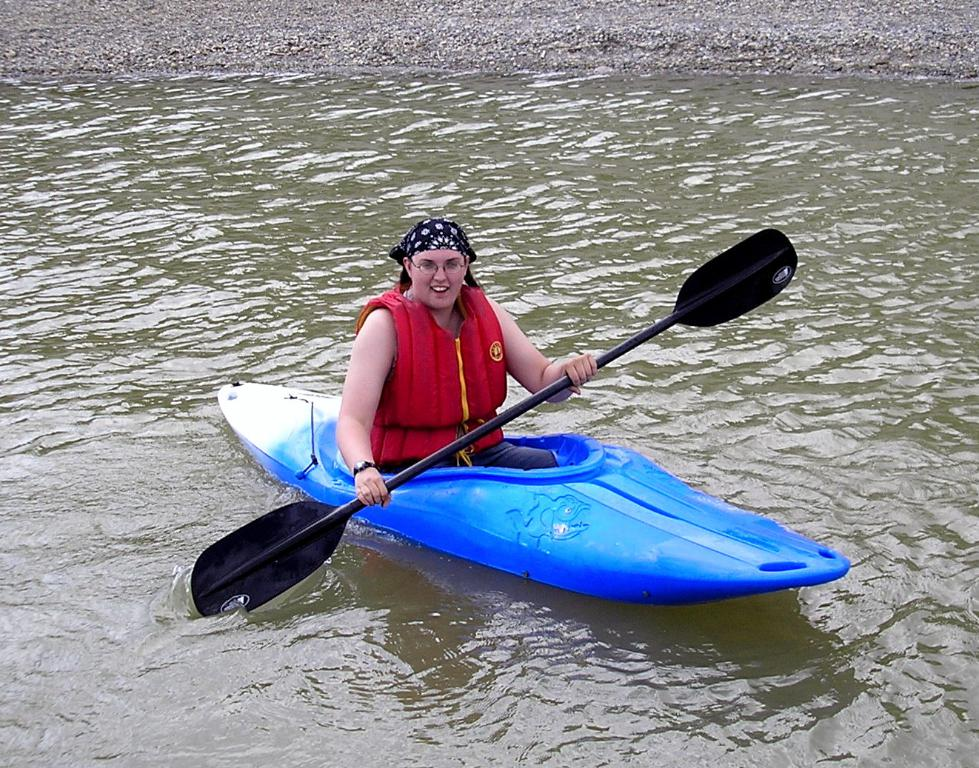Person: (334, 218, 596, 507)
